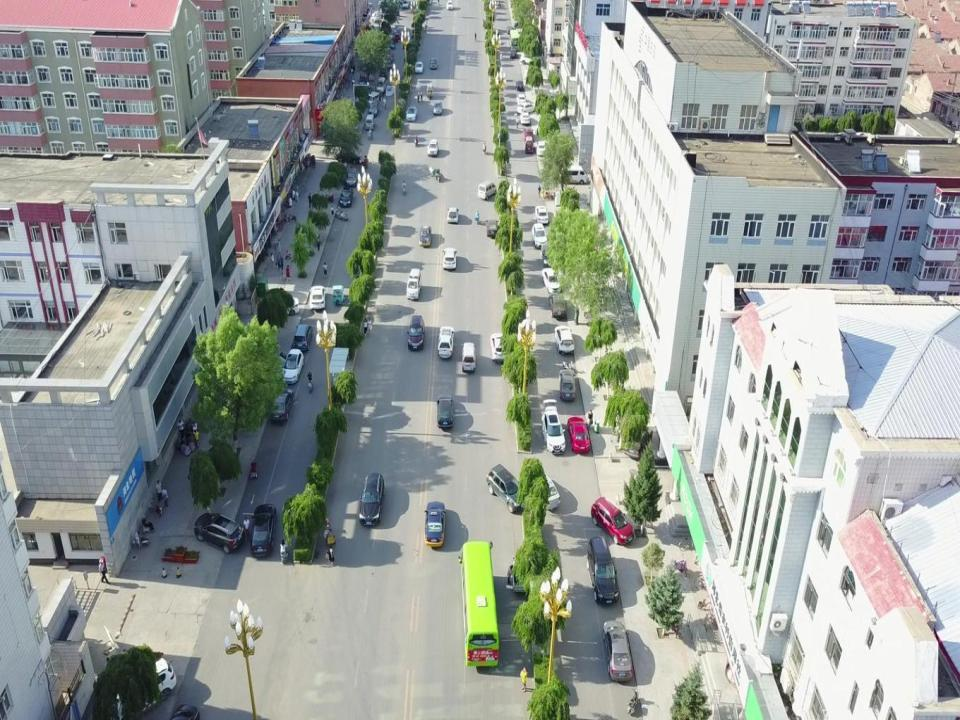bus: (457, 540, 499, 668), (509, 29, 520, 51)
car: (118, 657, 174, 716), (590, 496, 635, 545), (587, 537, 619, 605), (486, 464, 525, 515), (194, 514, 241, 555), (603, 620, 634, 682), (541, 401, 565, 455), (251, 504, 275, 558), (358, 473, 382, 526), (534, 471, 561, 509), (268, 385, 292, 426), (424, 502, 445, 546), (568, 417, 592, 455), (261, 296, 299, 316), (283, 351, 304, 387), (406, 316, 426, 353), (556, 165, 589, 185), (436, 396, 454, 430), (437, 326, 455, 359), (491, 332, 508, 364), (529, 222, 548, 249), (556, 326, 574, 354), (541, 266, 559, 293), (294, 324, 312, 351), (560, 370, 575, 402), (548, 294, 568, 318), (309, 285, 326, 310), (338, 185, 354, 209), (540, 242, 558, 263), (444, 248, 458, 270), (534, 204, 548, 224), (420, 226, 432, 249), (446, 205, 460, 224), (520, 53, 540, 66), (516, 102, 538, 113), (535, 138, 547, 158), (345, 166, 357, 186), (486, 218, 499, 236), (428, 138, 437, 158), (407, 106, 417, 121), (385, 81, 394, 97), (523, 128, 534, 141), (526, 137, 534, 152), (516, 94, 526, 106), (415, 61, 424, 73), (520, 112, 528, 125), (515, 79, 524, 90), (510, 48, 518, 58), (431, 58, 437, 70), (445, 0, 453, 9)
van: (462, 342, 476, 374), (406, 269, 420, 301), (476, 181, 496, 201), (366, 90, 379, 105), (375, 75, 385, 93), (365, 114, 375, 131), (433, 100, 442, 116)
